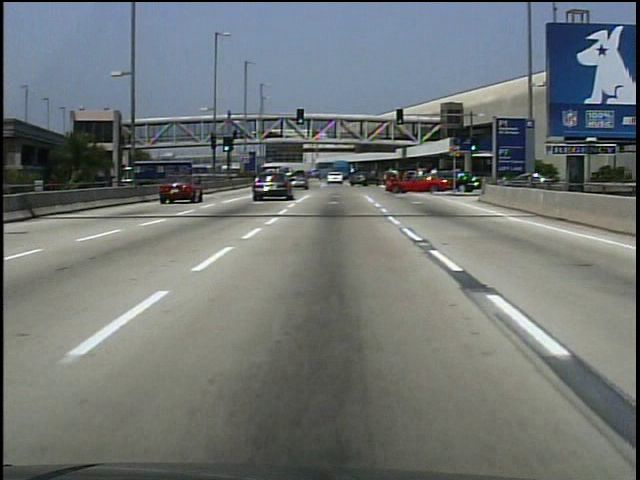person: (233, 129, 239, 143)
